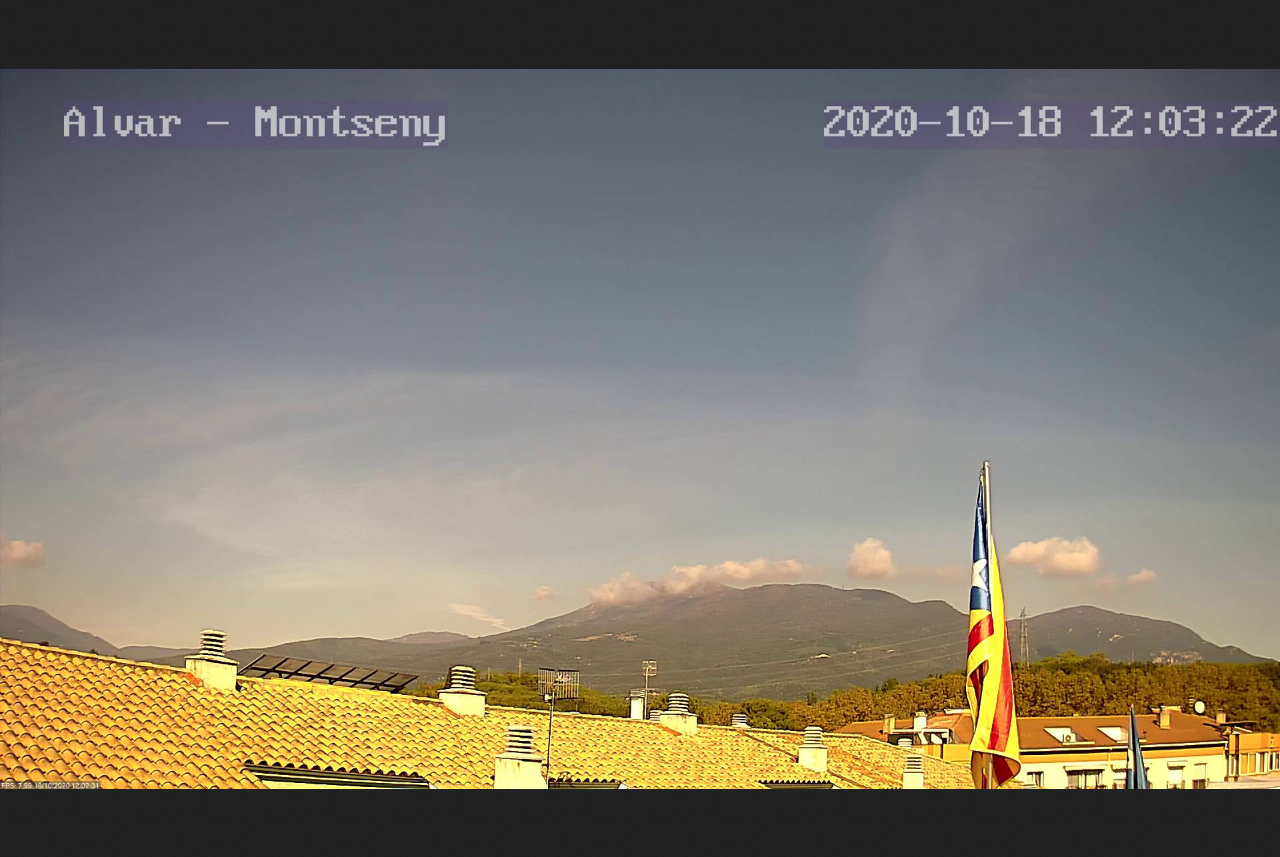no: (968, 476, 1022, 790)
